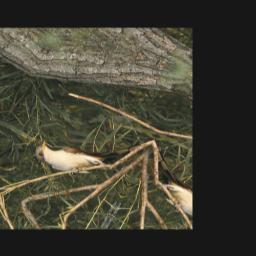Cuckoo: (28, 113, 145, 192)
